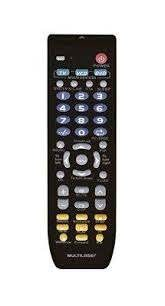remote control: (41, 35, 127, 273)
